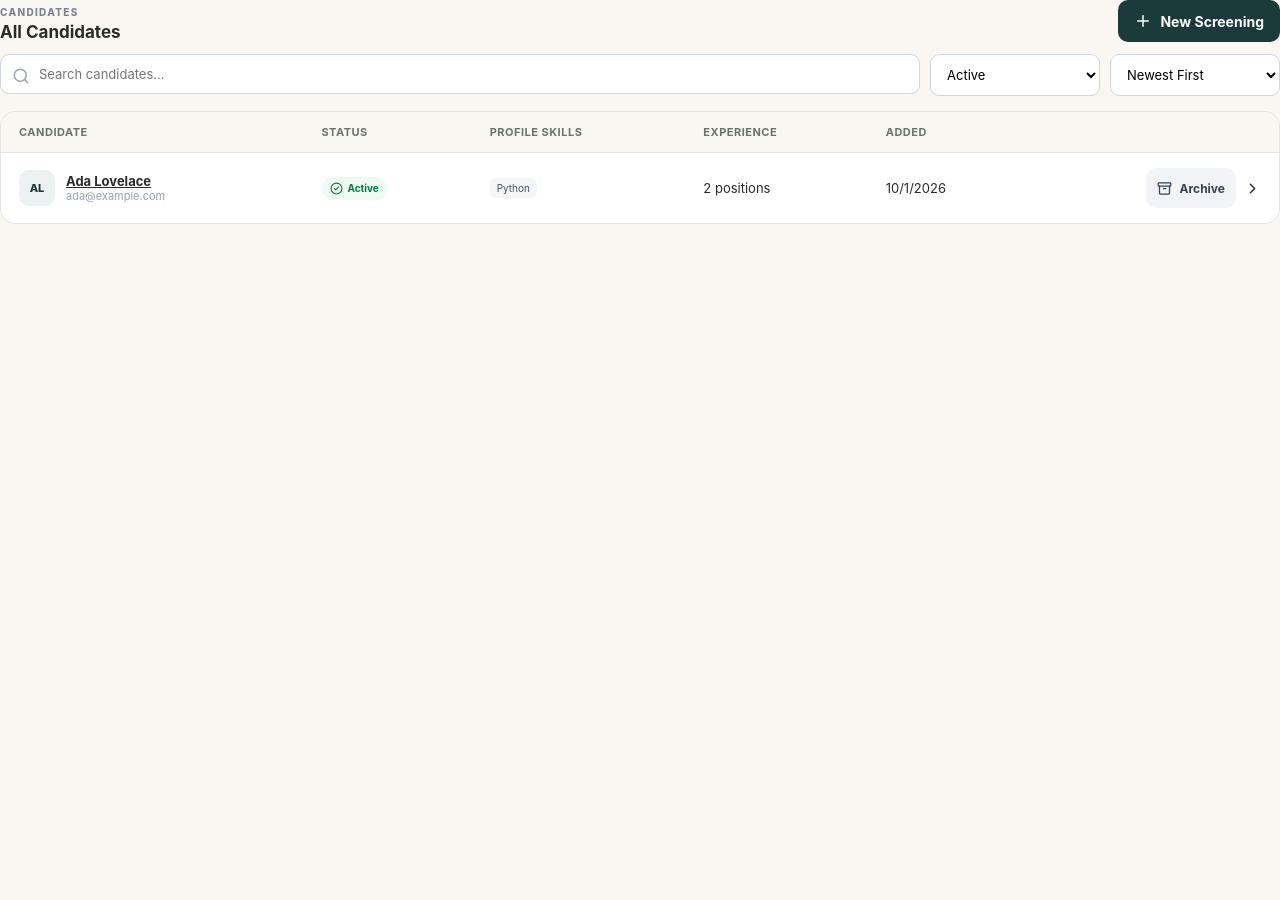
Scenario: Candidates empty states › requires confirmation, then archives a candidate out of the active roster
Click the button with aria-label "Archive Ada Lovelace" at [1191, 188], box [1146,168,1236,208]
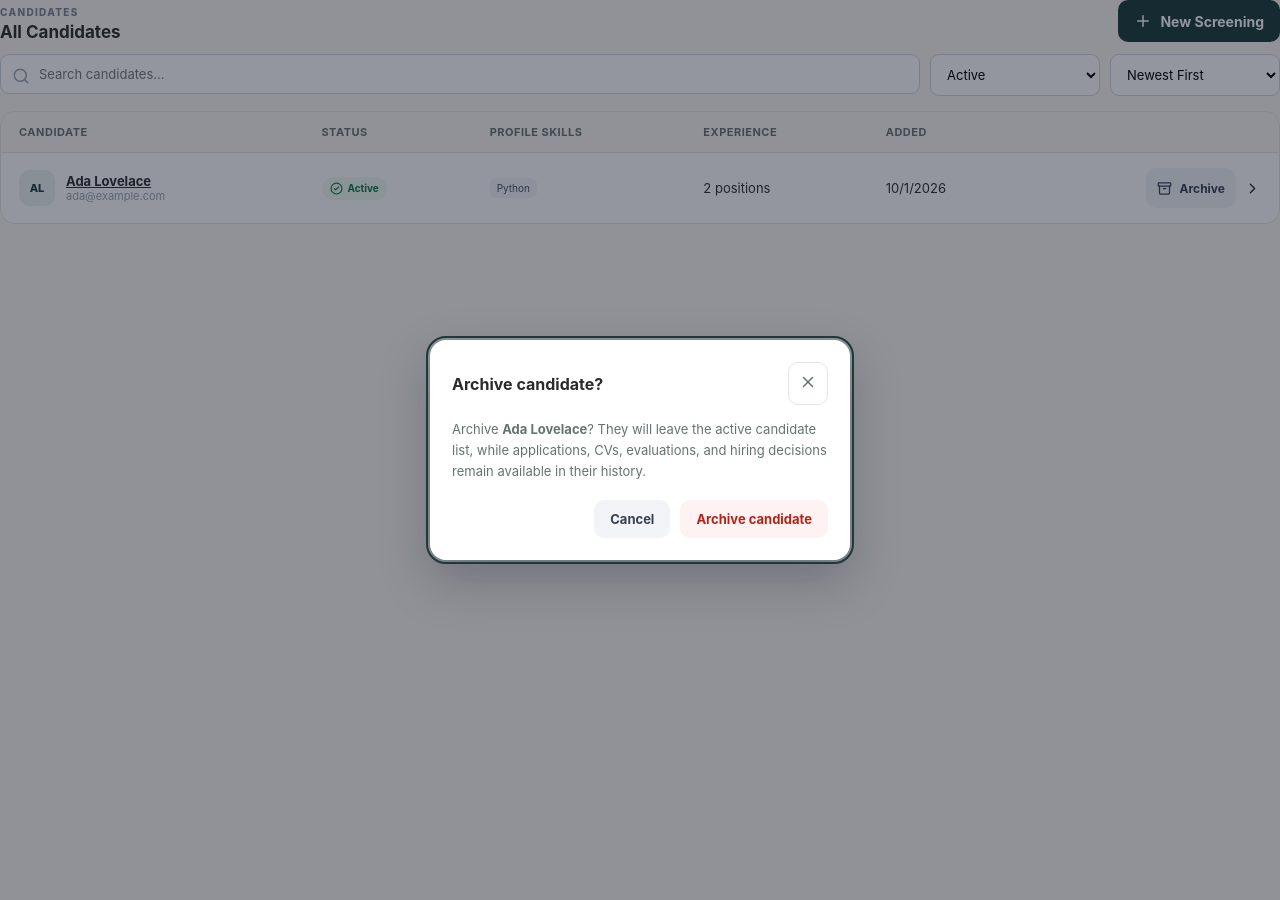
Expected: the dialog "Archive candidate?" shows "applications, CVs, evaluations, and hiring decisions remain available", [452,421,827,479]
Click the button "Cancel" at [632, 519], box [594,500,670,538]
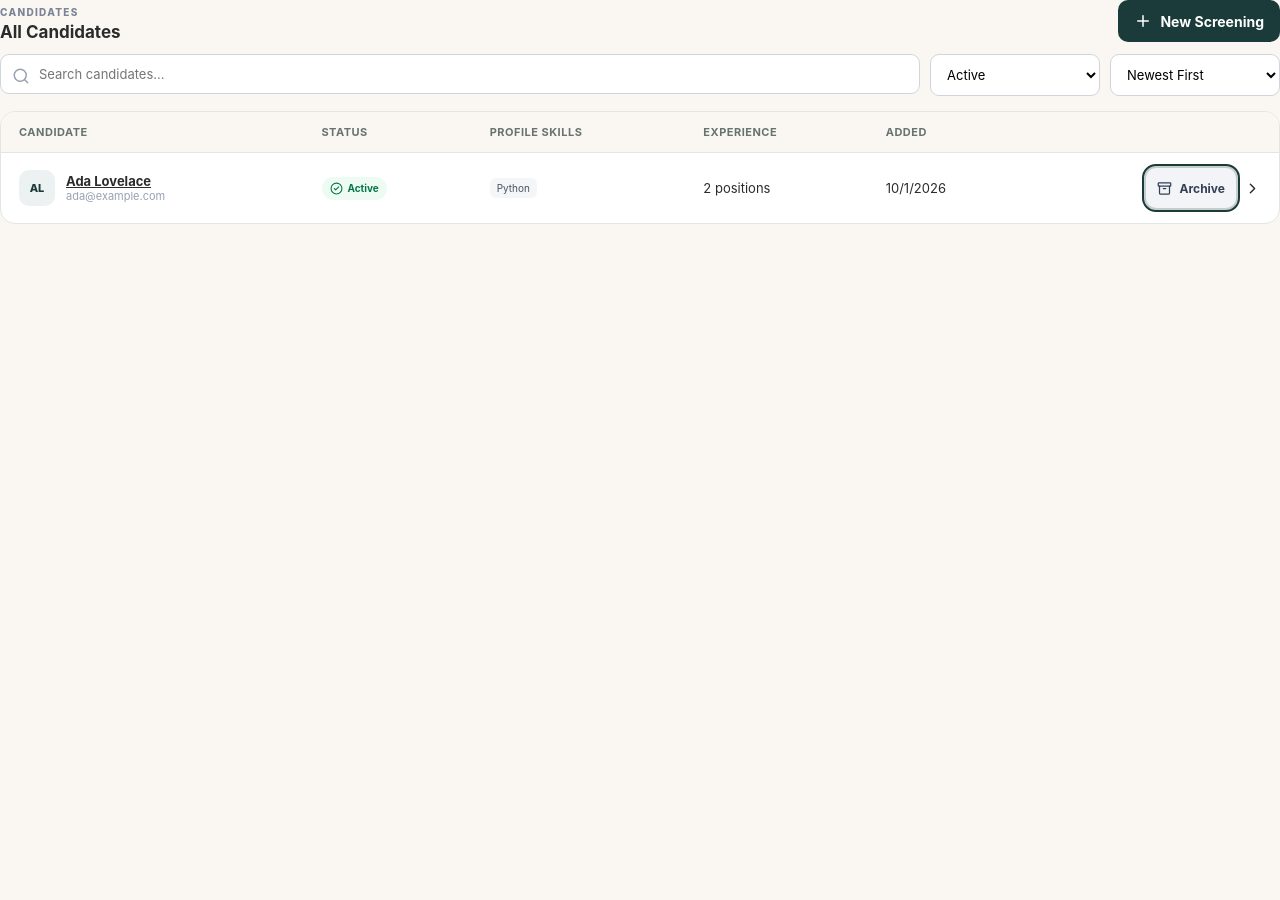
Expected: the link with aria-label "View candidate profile for Ada Lovelace" is shown, [66,173,165,189]
Expected: the dialog is gone
Click the button with aria-label "Archive Ada Lovelace" at [1191, 188], box [1146,168,1236,208]
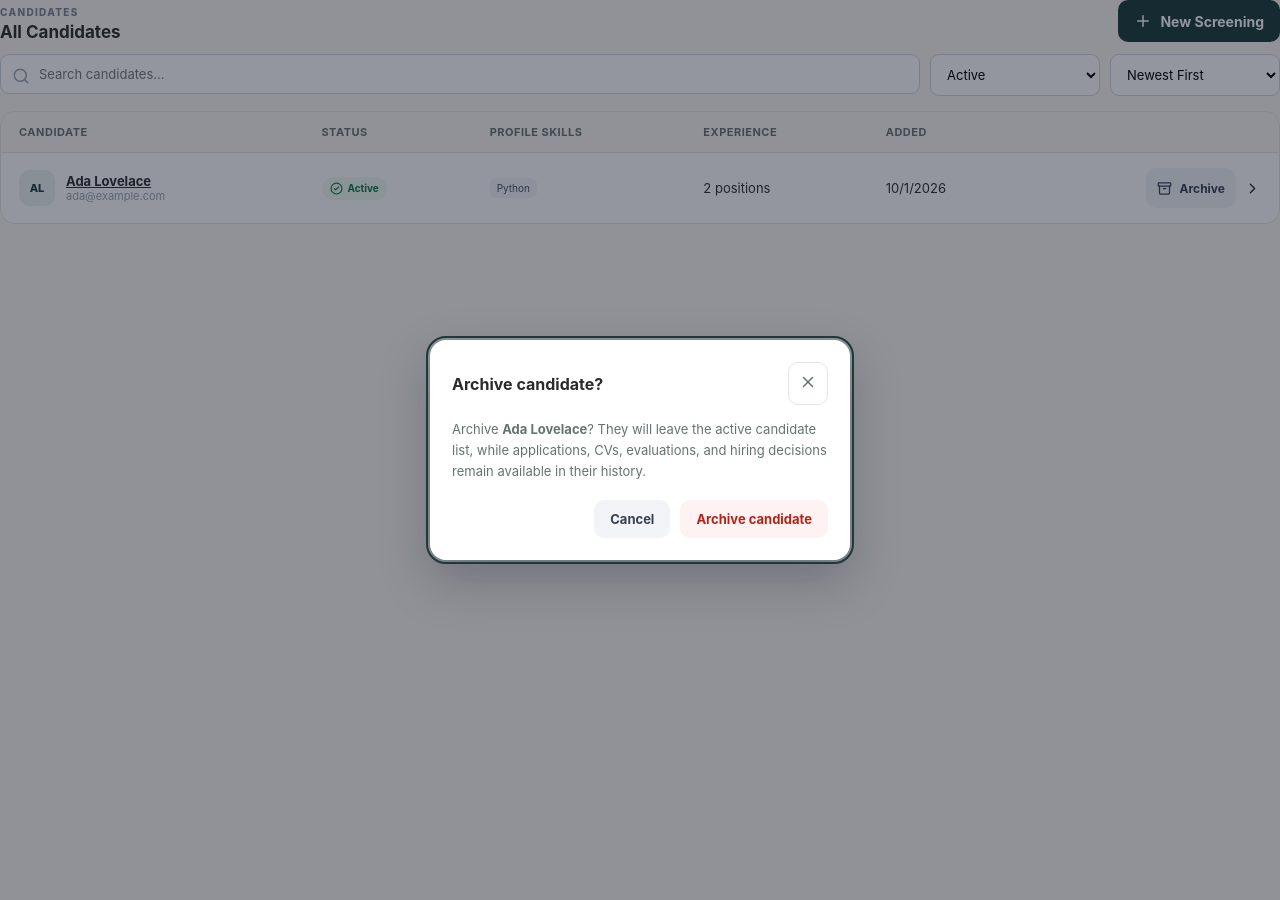
Click the button "Archive candidate" at [754, 519], box [680,500,828,538]
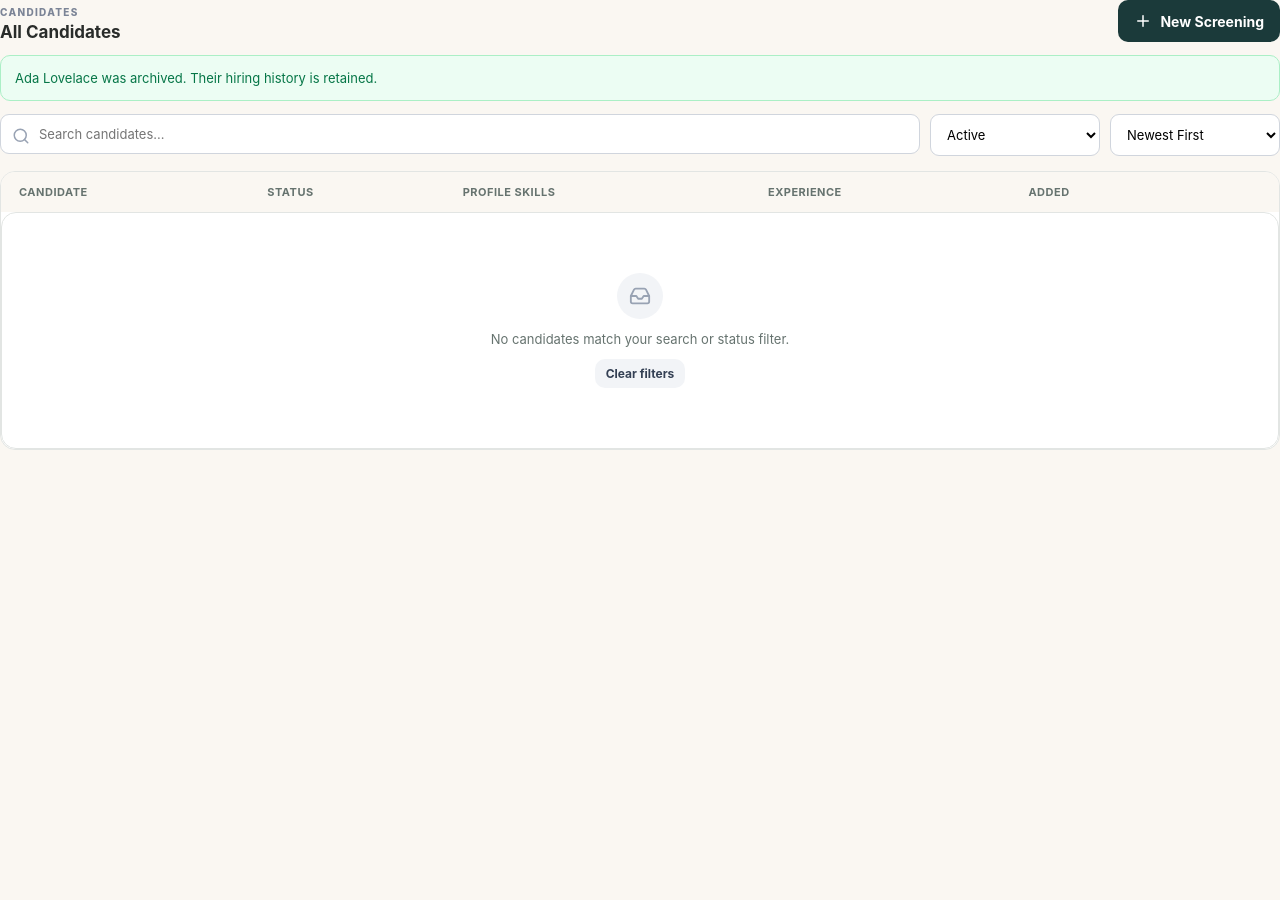
Expected: the message reads "Ada Lovelace was archived. Their hiring history is retained.", [15,70,377,86]
Select "Archived" in the dropdown named "Filter candidates by status" at [1015, 135], box [930,114,1100,156]
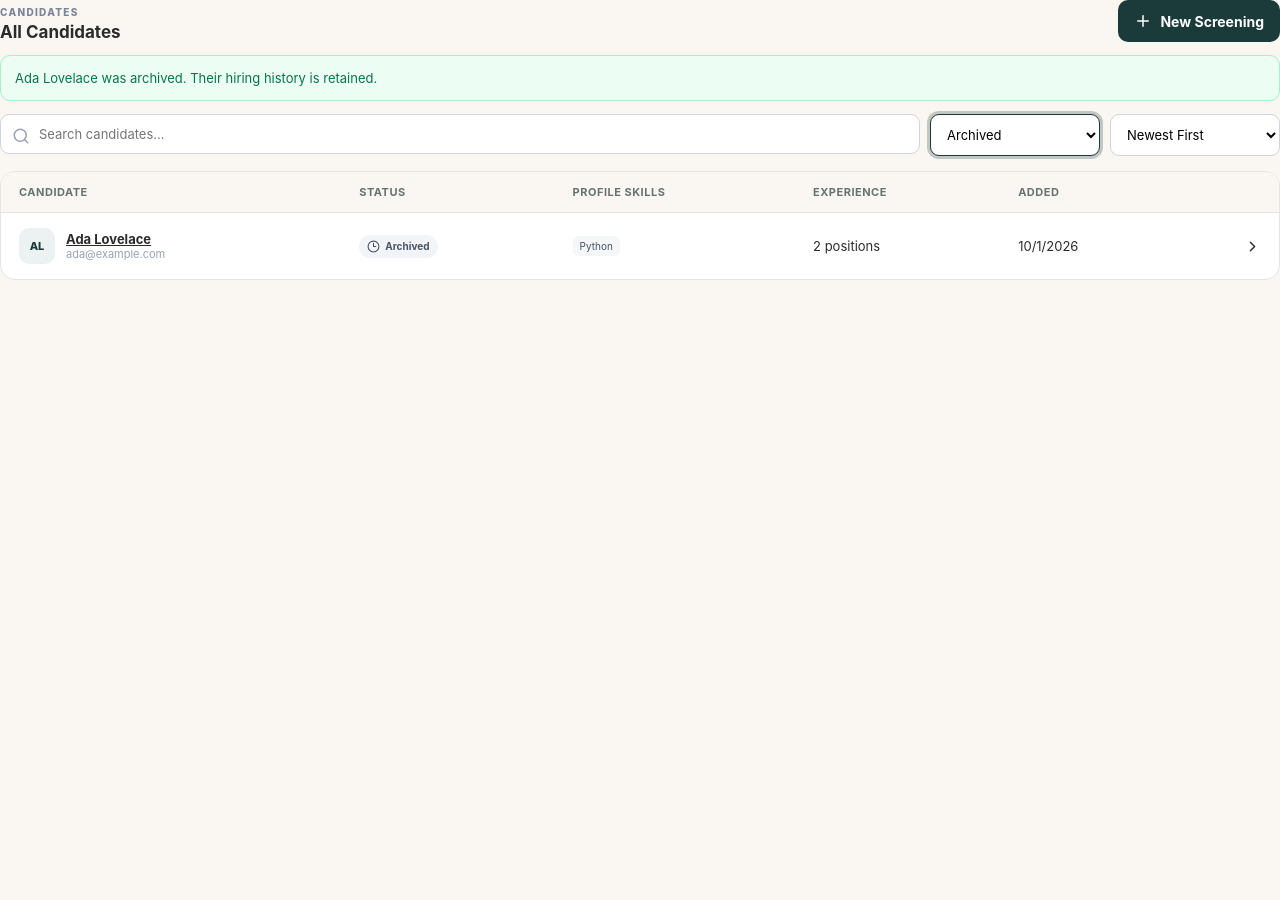
Expected: the button "Archive Ada Lovelace" is not shown
Expected: the text "Ada Lovelace" is shown, [66,231,165,247]
